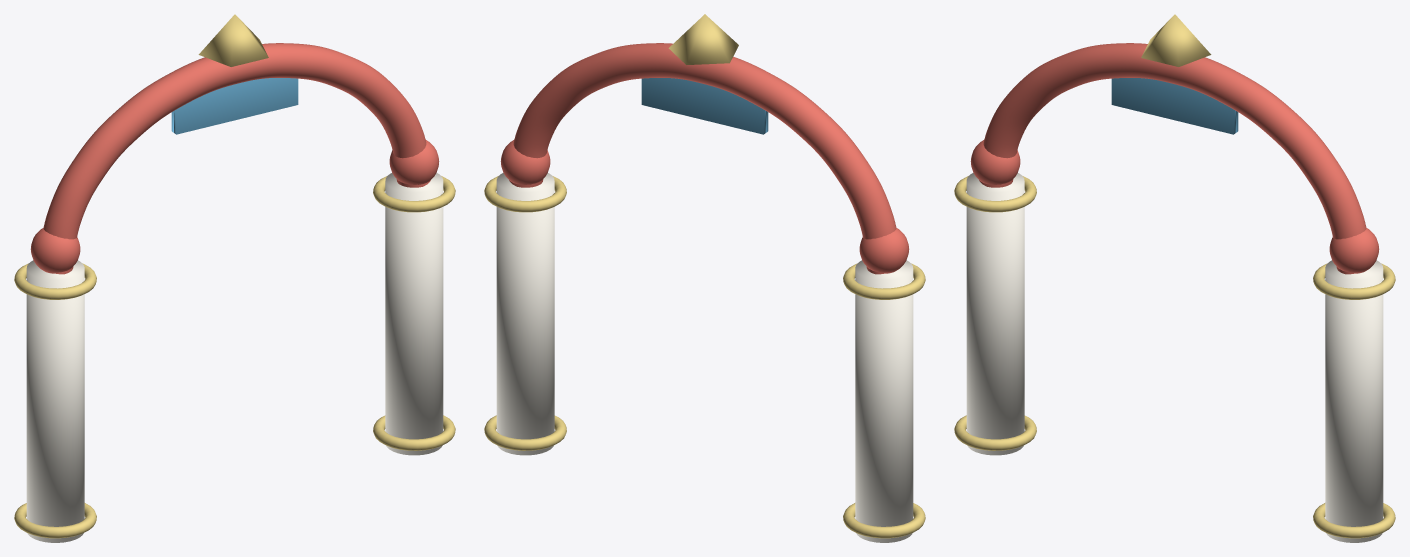
Rendered from arch.glb.
3 renders of one model, left to right at view 1: azimuth 30°, elevation 25°; view 2: azimuth 150°, elevation 25°; view 3: azimuth 330°, elevation 25°, orthographic.
Parts seen in each view (by area): view 1: arch, Cylinder, Cylinder.001, Cube, Cone, Sphere, Sphere.001, Torus.003, Torus.001, Torus, Torus.002; view 2: arch, Cylinder, Cylinder.001, Cube, Cone, Sphere, Sphere.001, Torus.003, Torus.001, Torus, Torus.002; view 3: arch, Cylinder.001, Cylinder, Cube, Cone, Sphere.001, Sphere, Torus.001, Torus.003, Torus, Torus.002.
Part boxes in pixels (x1,y1,x2,y2): arch: (43, 43, 430, 274); Cylinder: (26, 260, 84, 542); Cylinder.001: (385, 173, 443, 455); Cube: (171, 78, 298, 134); Cone: (198, 14, 268, 66); Sphere: (30, 228, 80, 273); Sphere.001: (389, 140, 439, 184); Torus.003: (373, 176, 455, 212); Torus.001: (14, 263, 96, 299); Torus: (14, 503, 96, 538); Torus.002: (373, 415, 455, 450); arch: (509, 43, 896, 274); Cylinder: (855, 260, 913, 542); Cylinder.001: (496, 173, 554, 455); Cube: (641, 78, 768, 134); Cone: (668, 14, 738, 64); Sphere: (859, 228, 909, 273); Sphere.001: (500, 140, 550, 184); Torus.003: (484, 176, 566, 212); Torus.001: (843, 263, 925, 299); Torus: (843, 503, 925, 538); Torus.002: (484, 415, 566, 450); arch: (979, 43, 1366, 274); Cylinder.001: (1325, 260, 1383, 542); Cylinder: (966, 173, 1024, 455); Cube: (1111, 78, 1238, 134); Cone: (1141, 14, 1211, 66); Sphere.001: (1329, 228, 1379, 273); Sphere: (970, 140, 1020, 184); Torus.001: (954, 176, 1036, 212); Torus.003: (1313, 263, 1395, 299); Torus: (954, 415, 1036, 450); Torus.002: (1313, 503, 1395, 538).
Bounding box in the file's own units: 12 × 12.6 × 2.
